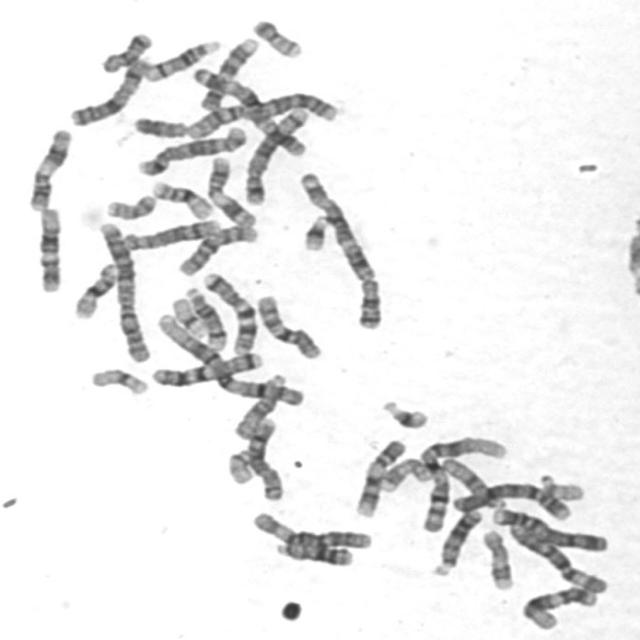A1: (148, 308, 310, 407), (411, 430, 509, 534)
A2: (91, 216, 153, 364), (180, 85, 342, 141)
A3: (187, 60, 310, 158), (292, 165, 378, 282)
B4: (487, 502, 611, 554), (444, 476, 574, 521)
B5: (239, 100, 311, 206), (130, 120, 250, 177)
C10: (250, 288, 325, 361), (172, 220, 261, 278)
C11: (22, 123, 74, 212), (201, 151, 259, 230)
C12: (516, 581, 600, 632), (30, 202, 66, 294)
C6: (497, 506, 610, 596), (246, 507, 375, 551)
C7: (196, 266, 259, 355), (145, 346, 267, 388)
C8: (116, 212, 223, 252), (242, 414, 286, 502)
C9: (192, 32, 262, 111), (349, 434, 409, 520)
D13: (426, 504, 486, 577), (270, 537, 355, 568)
D14: (136, 34, 224, 82), (180, 280, 229, 352)
D15: (228, 367, 290, 441), (436, 454, 508, 510)
E16: (67, 258, 121, 320), (146, 175, 216, 220)
E17: (476, 523, 517, 592), (375, 453, 434, 493)
E18: (94, 26, 156, 74), (350, 274, 384, 328)
F19: (84, 362, 151, 397), (166, 291, 209, 340)
F20: (246, 14, 305, 59), (100, 189, 160, 221)
G21: (376, 394, 431, 431), (296, 208, 334, 252)
G22: (534, 469, 588, 502), (221, 444, 256, 487)
X: (63, 51, 152, 128)
Y: (128, 110, 188, 140)
